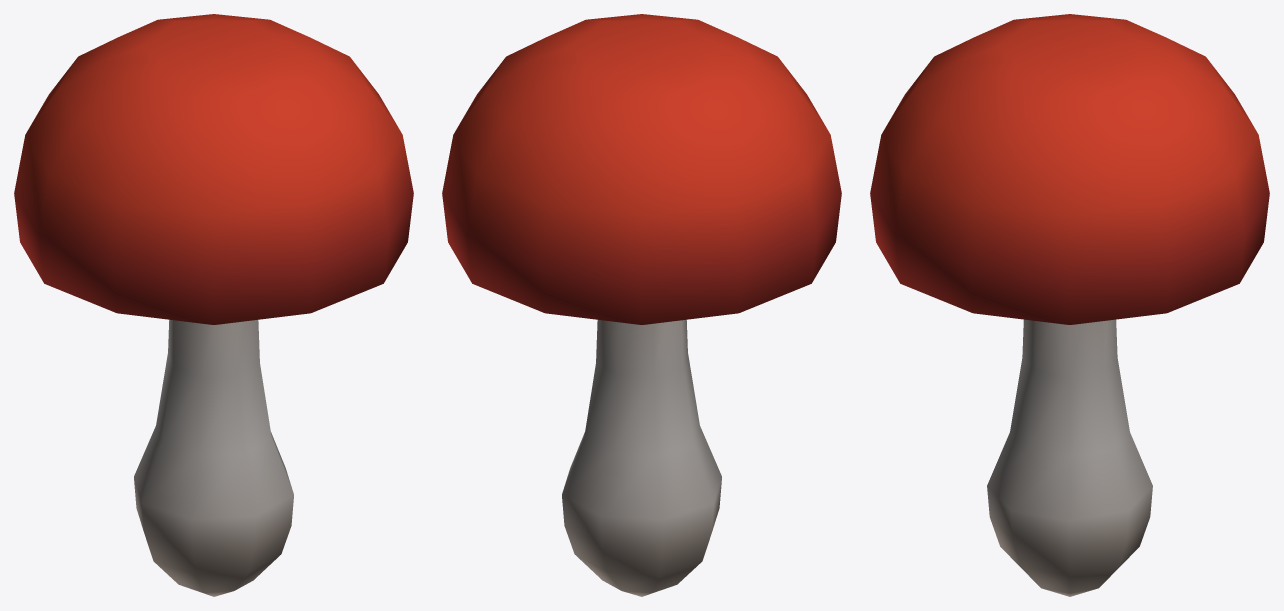
The model's file is plants-mushrooms-red-cap-mushroom_v2.glb.
The picture shows the model from 3 angles, left to right: view 1: azimuth 30°, elevation 25°; view 2: azimuth 150°, elevation 25°; view 3: azimuth 270°, elevation 25°; orthographic projection.
Visible parts, largest first — view 1: Red Cap Mushroom_v2; view 2: Red Cap Mushroom_v2; view 3: Red Cap Mushroom_v2.
Part boxes in pixels (box(x1,y1,x2,y2)): Red Cap Mushroom_v2: box(14, 14, 413, 596); Red Cap Mushroom_v2: box(442, 14, 841, 596); Red Cap Mushroom_v2: box(870, 14, 1269, 596).
Size of the model in its own units: 0.0666 by 0.1 by 0.0659.
